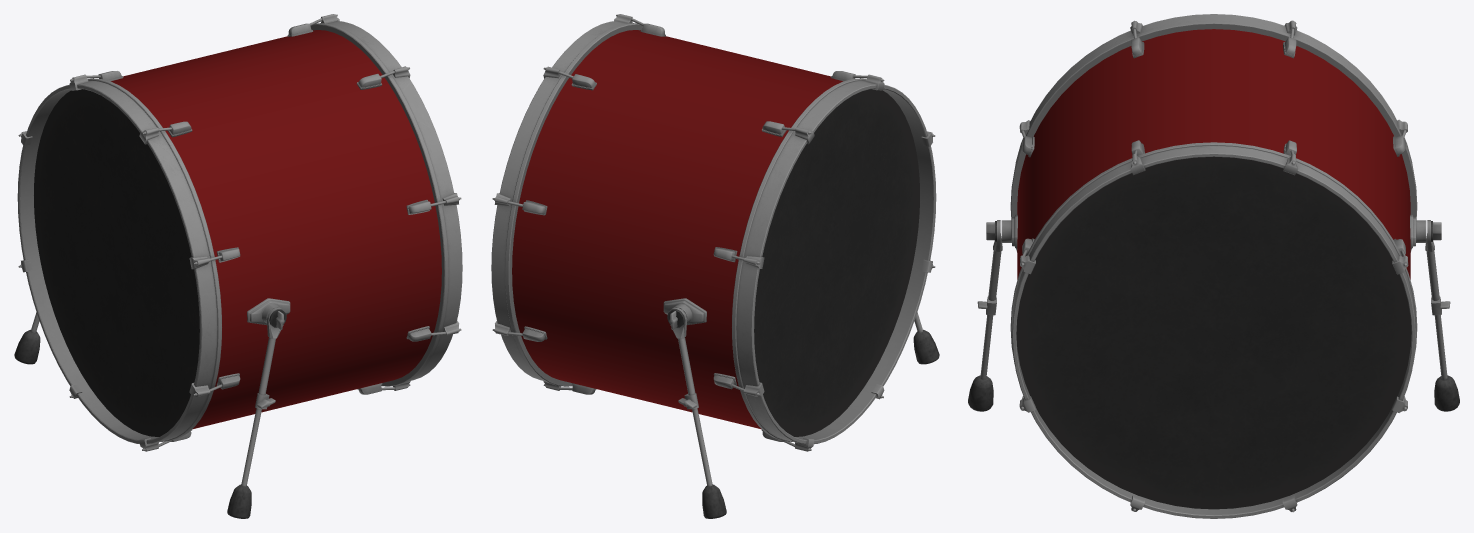
The model's file is SM_Drum_Kick_01.fbx.
3 views of the same model, side by side, from view 1: azimuth 30°, elevation 25°; view 2: azimuth 150°, elevation 25°; view 3: azimuth 270°, elevation 25° (orthographic). The views are drawn at different scales.
Parts seen in each view (by area): view 1: SM_Drum_Kick_01_LOD0; view 2: SM_Drum_Kick_01_LOD0; view 3: SM_Drum_Kick_01_LOD0.
Part boxes in pixels (x1,y1,x2,y2): SM_Drum_Kick_01_LOD0: (14,14,462,518); SM_Drum_Kick_01_LOD0: (491,14,939,518); SM_Drum_Kick_01_LOD0: (968,14,1459,518).
Size of the model in its own units: 46.78 by 68.05 by 58.46.
1 material, 1 textured.
